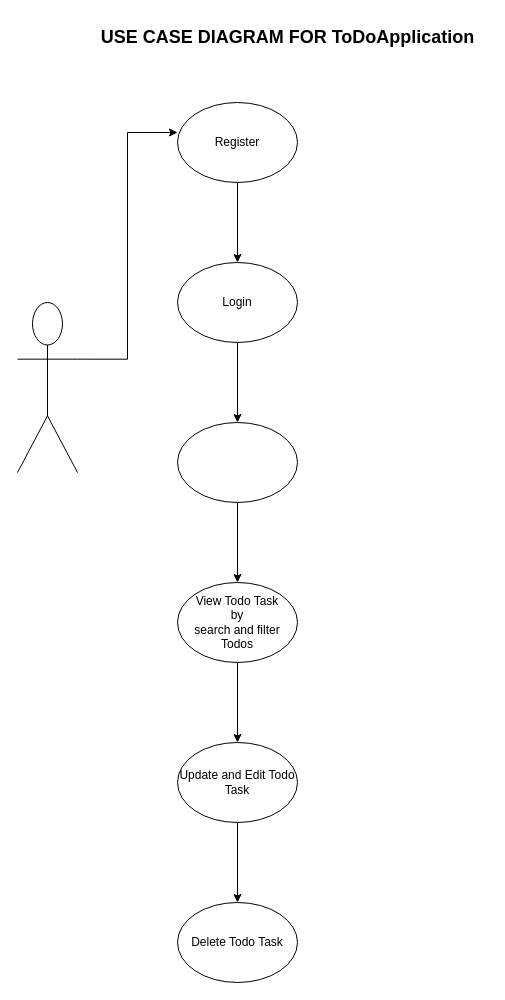
This 505x1000 diagram has some shape labels left out. Here are the shapes that lost their labels. From the top down, the centre of each, then its label:
pixel 47 387: Users
pixel 237 462: Add Todo Task and set due date
